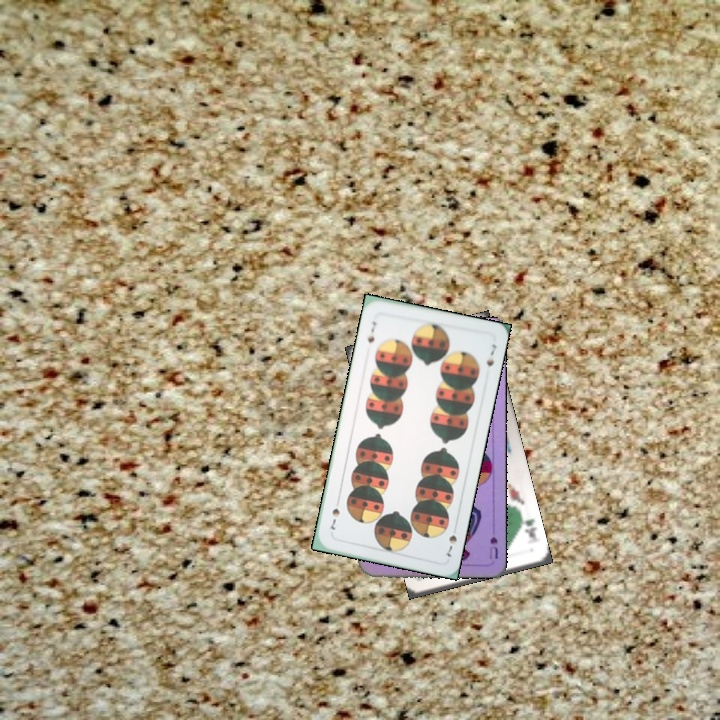GK: (517, 512, 539, 542)
S7: (442, 531, 459, 560), (363, 317, 379, 345)
SU: (486, 533, 501, 561)
